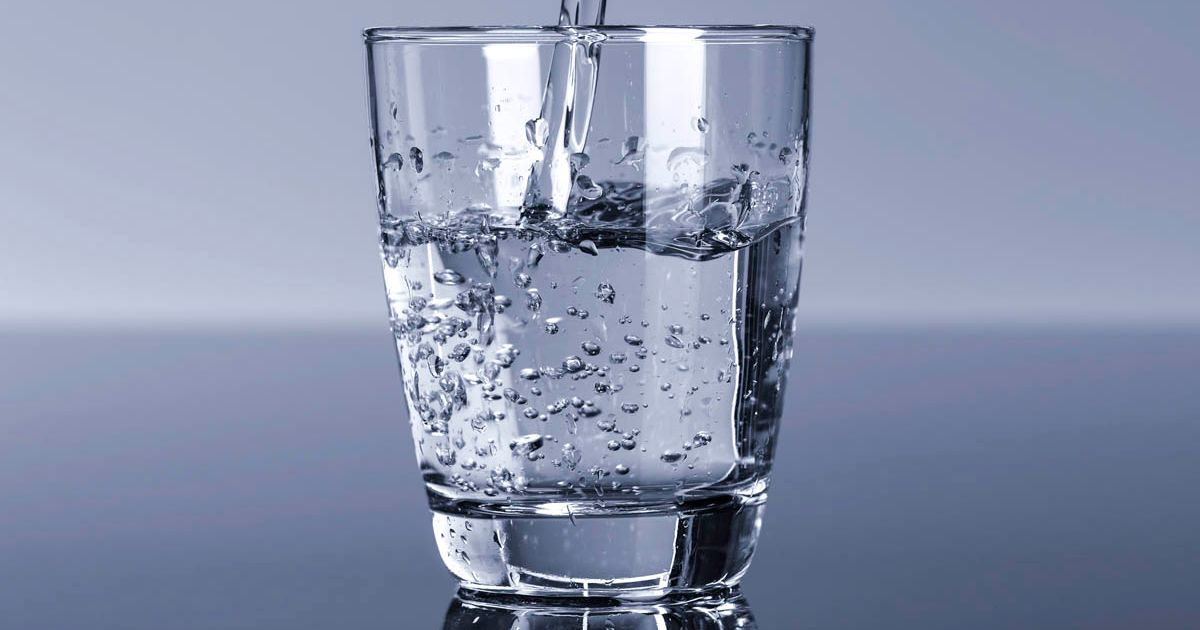glass of water: (405, 42, 775, 551)
